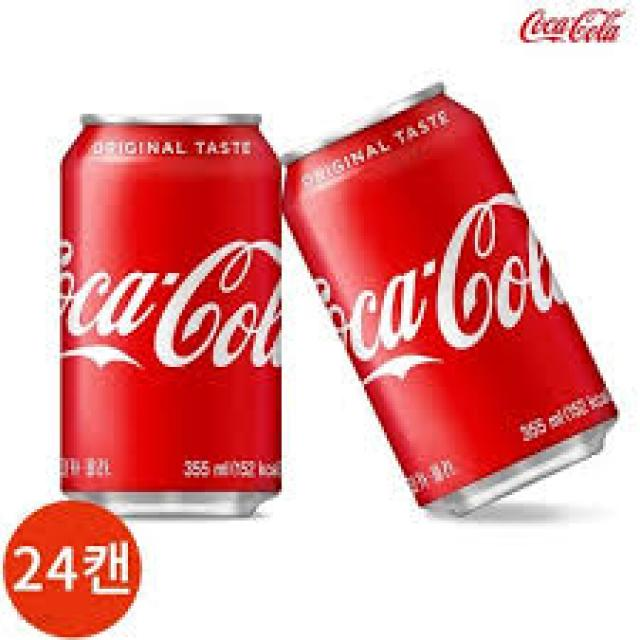Coca-Cola: (279, 49, 622, 518), (43, 95, 289, 522)
